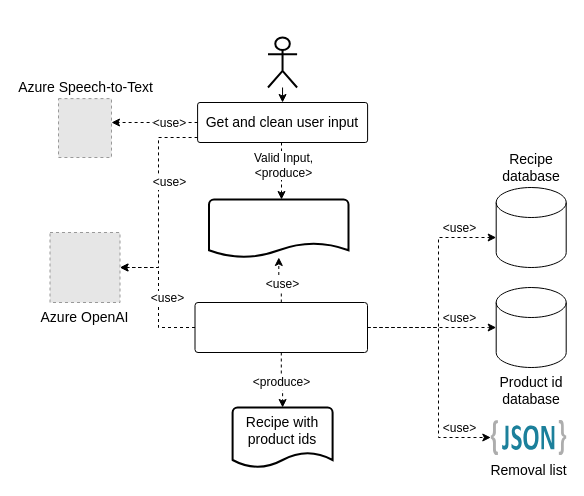
Some shapes in this 584 by 496 pixel diagram are drawn without their labels. Grey dashed boxes stand in for pictures. The centre of each missing label's shape, as x and y in pixels:
Dish name and serving size: point (278, 228)
Generate Recipe: point (281, 327)
User: point (282, 62)
